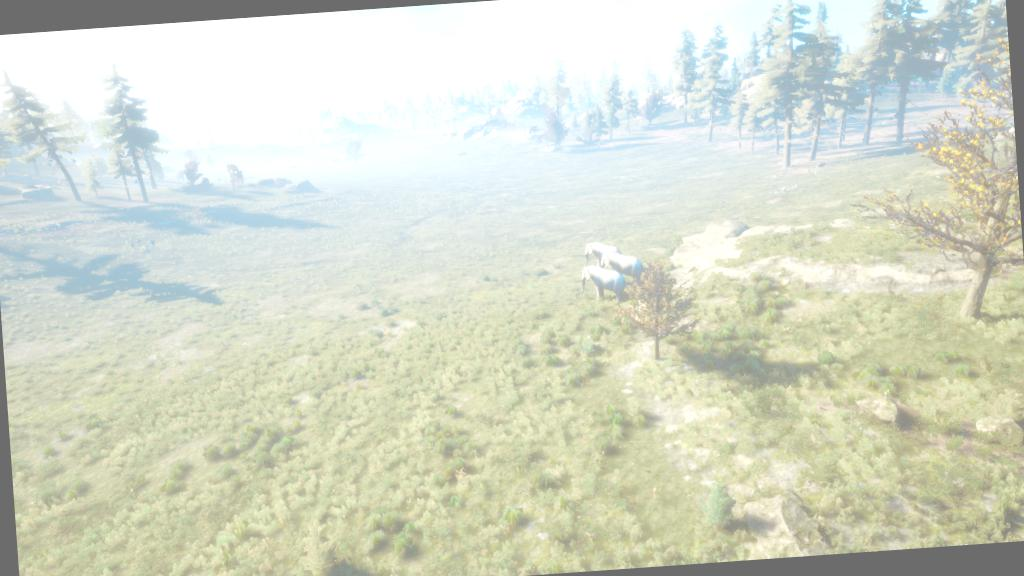elephant: (576, 262, 632, 311), (592, 248, 650, 290), (574, 232, 632, 270)
